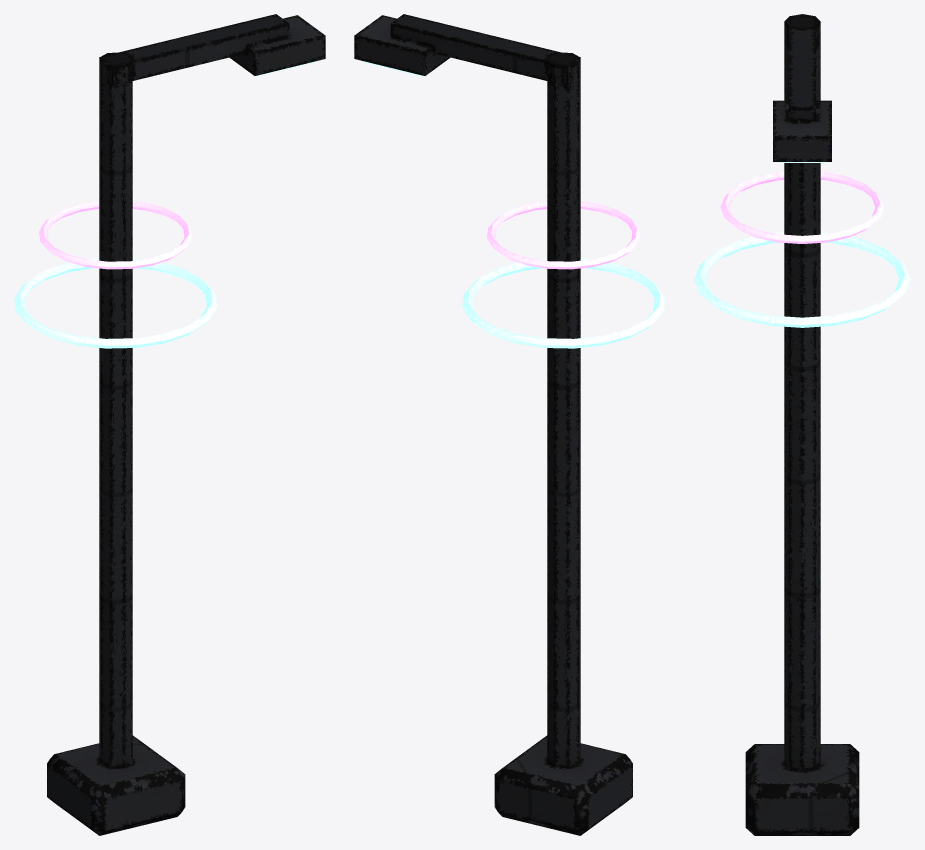
The model's file is poste_holo.glb.
The picture shows the model from 3 angles, left to right: view 1: azimuth 30°, elevation 25°; view 2: azimuth 150°, elevation 25°; view 3: azimuth 270°, elevation 25°; orthographic projection. The views are drawn at different scales.
Parts seen in each view (by area): view 1: poste_holo; view 2: poste_holo; view 3: poste_holo.
Boxes of the visible parts, bbox=[...] form: poste_holo: bbox=[14, 14, 325, 835]; poste_holo: bbox=[354, 14, 665, 835]; poste_holo: bbox=[694, 14, 910, 835].
Bounding box in the file's own units: 1.52 × 3.85 × 0.95.
Materials: 1 (1 with a texture image).
